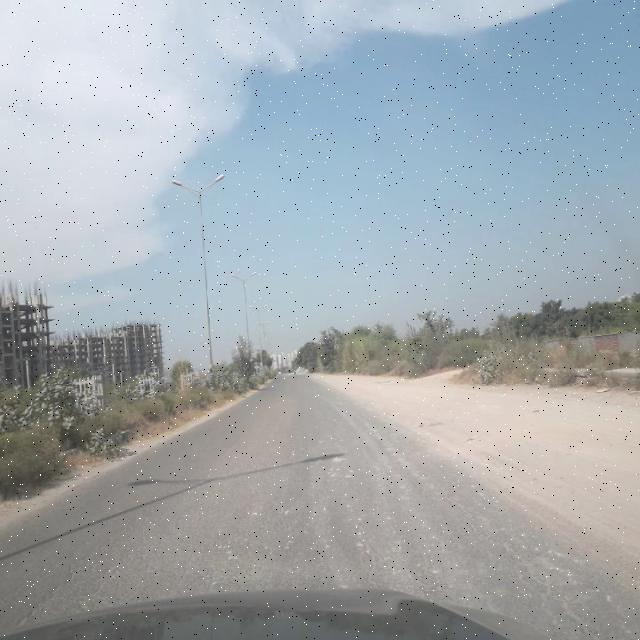D00: (422, 481, 614, 637), (4, 541, 86, 610), (355, 505, 392, 586)
D20: (52, 481, 572, 602)
